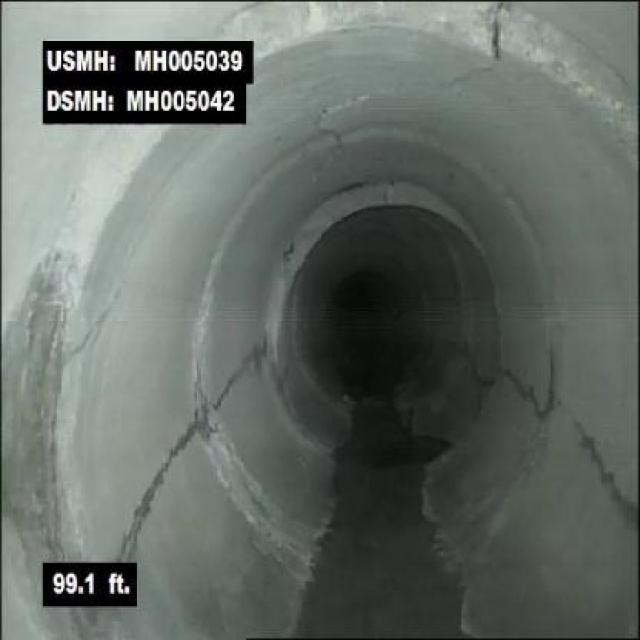Crack: (121, 420, 208, 560), (582, 431, 636, 531), (503, 352, 565, 430)
Joint offset: (19, 129, 152, 426), (257, 5, 505, 68), (511, 5, 634, 129)
